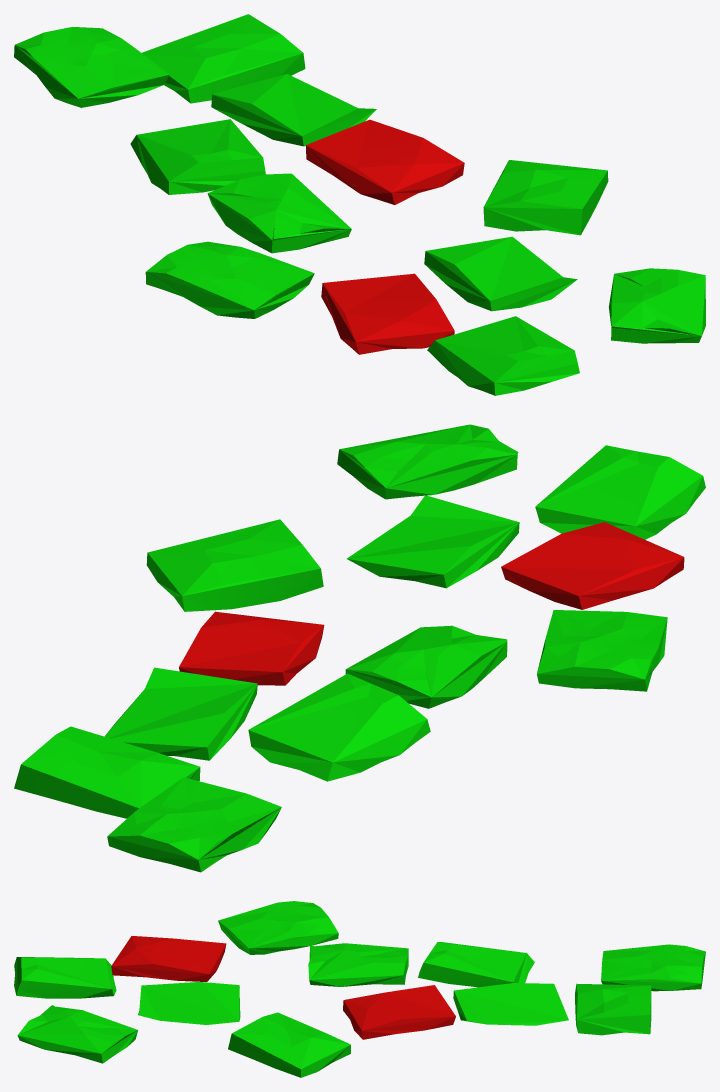
The model's file is Cobblestone_07.fbx.
3 views of the same model, one above another, from view 1: azimuth 30°, elevation 25°; view 2: azimuth 150°, elevation 25°; view 3: azimuth 270°, elevation 25° (orthographic). The views are drawn at different scales.
Visible parts, largest first — view 1: Plane.010; view 2: Plane.010; view 3: Plane.010.
Boxes of the visible parts, <box> form: Plane.010: <box>14,14,705,395</box>; Plane.010: <box>14,424,705,872</box>; Plane.010: <box>14,901,705,1077</box>.
Bounding box in the file's own units: 240 × 18.02 × 428.
